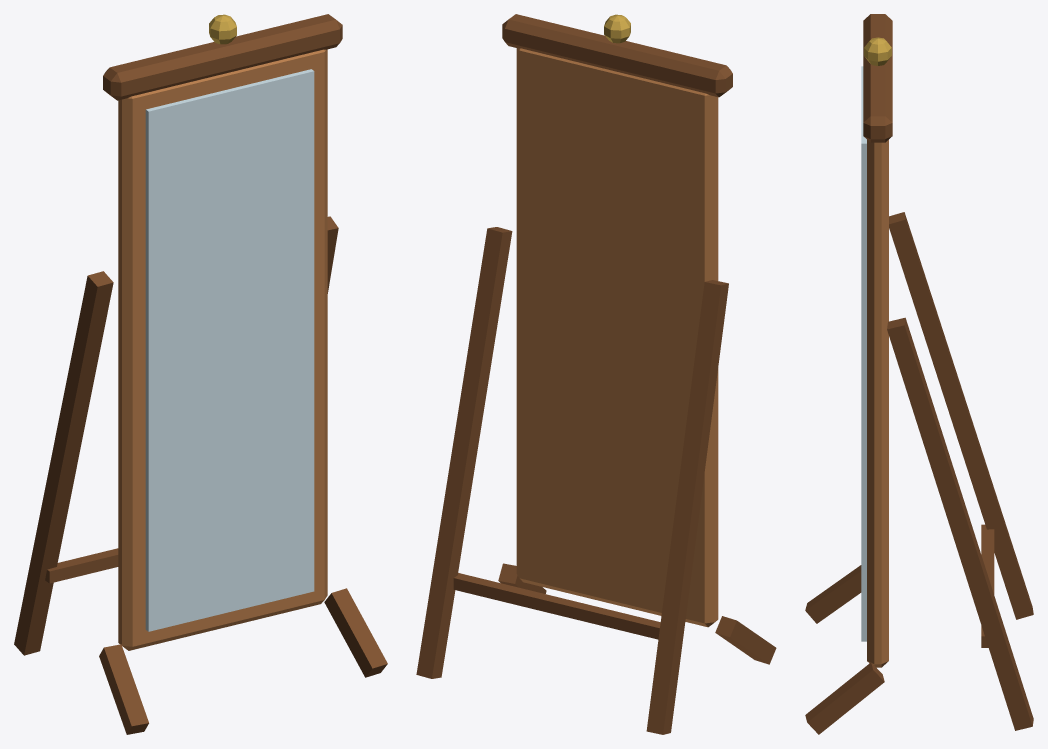
Rendered from home_mirror_v01.glb.
3 views of the same model, side by side, from view 1: azimuth 30°, elevation 25°; view 2: azimuth 150°, elevation 25°; view 3: azimuth 270°, elevation 25° (orthographic). The views are drawn at different scales.
Parts seen in each view (by area): view 1: mirror; view 2: mirror; view 3: mirror.
Part boxes in pixels (x1,y1,x2,y2): mirror: [14, 14, 387, 734]; mirror: [416, 14, 776, 734]; mirror: [805, 14, 1033, 734].
Size of the model in its own units: 0.7732 by 1.92 by 0.624.
